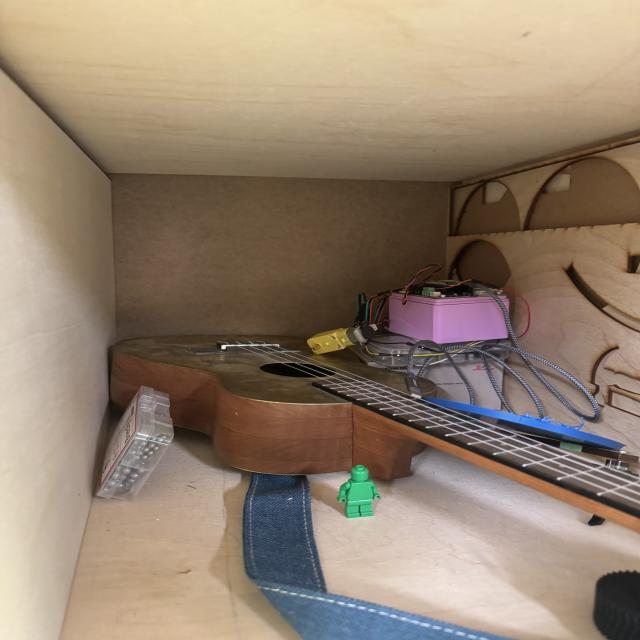Green Mini Figure: (336, 465, 380, 518)
